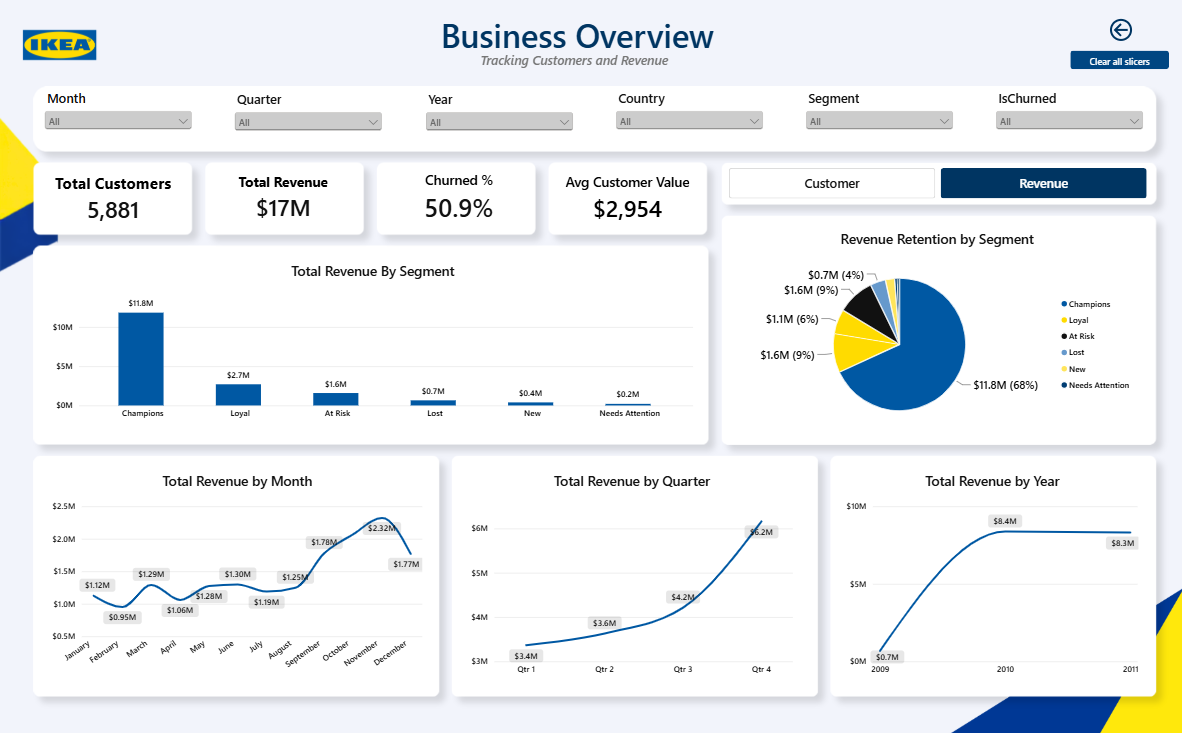

The dashboard page shown, as its layout file describes it:
{"tool":"powerbi","page":{"name":"Overview","canvas":[1750,1100],"ordinal":1},"visuals":[{"type":"cardVisual","fields":{"Data":["_Measure.Total Revenue"]},"box":[312.8,256.4,211.8,91.3],"z":0},{"type":"columnChart","title":"Total Customers By Segment","fields":{"Category":["Sheet1.Segment"],"Y":["_Measure.Total Customers"]},"box":[62.7,383.4,976.9,267.3],"z":0,"group":"g1"},{"type":"cardVisual","fields":{"Data":["_Measure.Avg Customer Value"]},"box":[814.7,256.2,224.9,92.2],"z":1000},{"type":"columnChart","title":"Customer Retention by Segment","fields":{"Category":["Sheet1.Segment"],"Series":["Sheet1.IsChurned"],"Y":["_Measure.Total Customers"]},"box":[1078.3,333.6,617.5,328.1],"z":1000,"group":"g1"},{"type":"cardVisual","fields":{"Data":["_Measure.Total Customers"]},"box":[62.2,258.4,211.8,89.4],"z":2000},{"type":"lineChart","title":"Total Customers by Month","fields":{"Category":["Sheet1.InvoiceMonth.Variation.Date Hierarchy.Month"],"Y":["_Measure.Total Customers"]},"box":[62.7,693,577.4,335],"z":2000,"group":"g1"},{"type":"cardVisual","fields":{"Data":["_Measure.Churned %"]},"box":[573.2,258,210.1,88.5],"z":3000},{"type":"lineChart","title":"Total Customers by Quarter","fields":{"Category":["Sheet1.InvoiceMonth.Variation.Date Hierarchy.Quarter"],"Y":["_Measure.Total Customers"]},"box":[680.2,694.9,506.5,335],"z":3000,"group":"g1"},{"type":"slicer","fields":{"Values":["Sheet1.InvoiceDate.Variation.Date Hierarchy.Month"]},"box":[63.1,141.9,226.6,84.7],"z":4000},{"type":"lineChart","title":"Total Customers by Year","fields":{"Category":["Sheet1.InvoiceMonth.Variation.Date Hierarchy.Year"],"Y":["_Measure.Total Customers"]},"box":[1235,694.9,463.1,335],"z":4000,"group":"g1"},{"type":"slicer","fields":{"Values":["Sheet1.InvoiceDate.Variation.Date Hierarchy.Quarter"]},"box":[343.7,143.9,226.6,84.7],"z":5000},{"type":"slicer","fields":{"Values":["Sheet1.InvoiceDate.Variation.Date Hierarchy.Year"]},"box":[624.3,143.9,226.6,84.7],"z":6000},{"type":"slicer","fields":{"Values":["Sheet1.Country"]},"box":[905,141.9,226.6,84.7],"z":7000},{"type":"slicer","fields":{"Values":["Sheet1.Segment"]},"box":[1185.6,141.9,226.6,84.7],"z":8000},{"type":"slicer","fields":{"Values":["Sheet1.IsChurned"]},"box":[1466.2,141.9,226.6,84.7],"z":9000},{"type":"group","id":"g1","title":"Customer","box":[62.7,333.6,1635.4,696.3],"z":10000},{"type":"bookmarkNavigator","box":[1076,258.2,616.8,45.3],"z":12000},{"type":"image","box":[11.1,29.5,156.7,94],"z":13000},{"type":"textbox","box":[499,29.5,705.9,88.5],"z":14000},{"type":"actionButton","box":[1620.1,31.3,68.2,46.1],"z":15000},{"type":"actionButton","box":[1579.6,84.8,145.6,27.6],"z":16000},{"type":"textbox","box":[710.1,86.6,283.8,25.8],"z":17000}]}

Visuals, with their boxes in screenshot pixels (x1, y1, x2, y2), scaled from the page's 1750x1100 canvas onto the 1182x733 screenshot:
cardVisual - _Measure.Total Revenue: <bbox>211, 171, 354, 232</bbox>
"Total Customers By Segment" columnChart: <bbox>42, 255, 702, 434</bbox>
cardVisual - _Measure.Avg Customer Value: <bbox>550, 171, 702, 232</bbox>
"Customer Retention by Segment" columnChart: <bbox>728, 222, 1145, 441</bbox>
cardVisual - _Measure.Total Customers: <bbox>42, 172, 185, 232</bbox>
"Total Customers by Month" lineChart: <bbox>42, 462, 432, 685</bbox>
cardVisual - _Measure.Churned %: <bbox>387, 172, 529, 231</bbox>
"Total Customers by Quarter" lineChart: <bbox>459, 463, 802, 686</bbox>
slicer - Sheet1.InvoiceDate.Variation.Date Hierarchy.Month: <bbox>43, 95, 196, 151</bbox>
"Total Customers by Year" lineChart: <bbox>834, 463, 1147, 686</bbox>
slicer - Sheet1.InvoiceDate.Variation.Date Hierarchy.Quarter: <bbox>232, 96, 385, 152</bbox>
slicer - Sheet1.InvoiceDate.Variation.Date Hierarchy.Year: <bbox>422, 96, 575, 152</bbox>
slicer - Sheet1.Country: <bbox>611, 95, 764, 151</bbox>
slicer - Sheet1.Segment: <bbox>801, 95, 954, 151</bbox>
slicer - Sheet1.IsChurned: <bbox>990, 95, 1143, 151</bbox>
"Customer" group: <bbox>42, 222, 1147, 686</bbox>
bookmarkNavigator: <bbox>727, 172, 1143, 202</bbox>
image: <bbox>7, 20, 113, 82</bbox>
textbox: <bbox>337, 20, 814, 79</bbox>
actionButton: <bbox>1094, 21, 1140, 52</bbox>
actionButton: <bbox>1067, 57, 1165, 75</bbox>
textbox: <bbox>480, 58, 671, 75</bbox>
